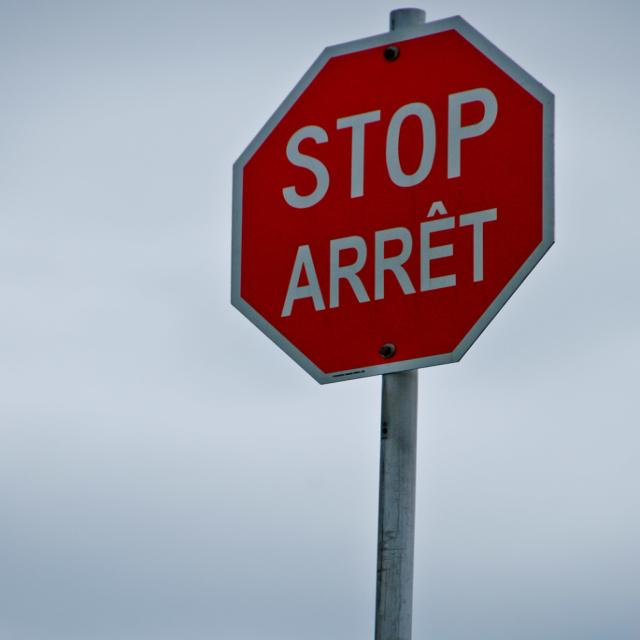Stop-sign: (226, 12, 556, 386), (229, 14, 552, 382)
